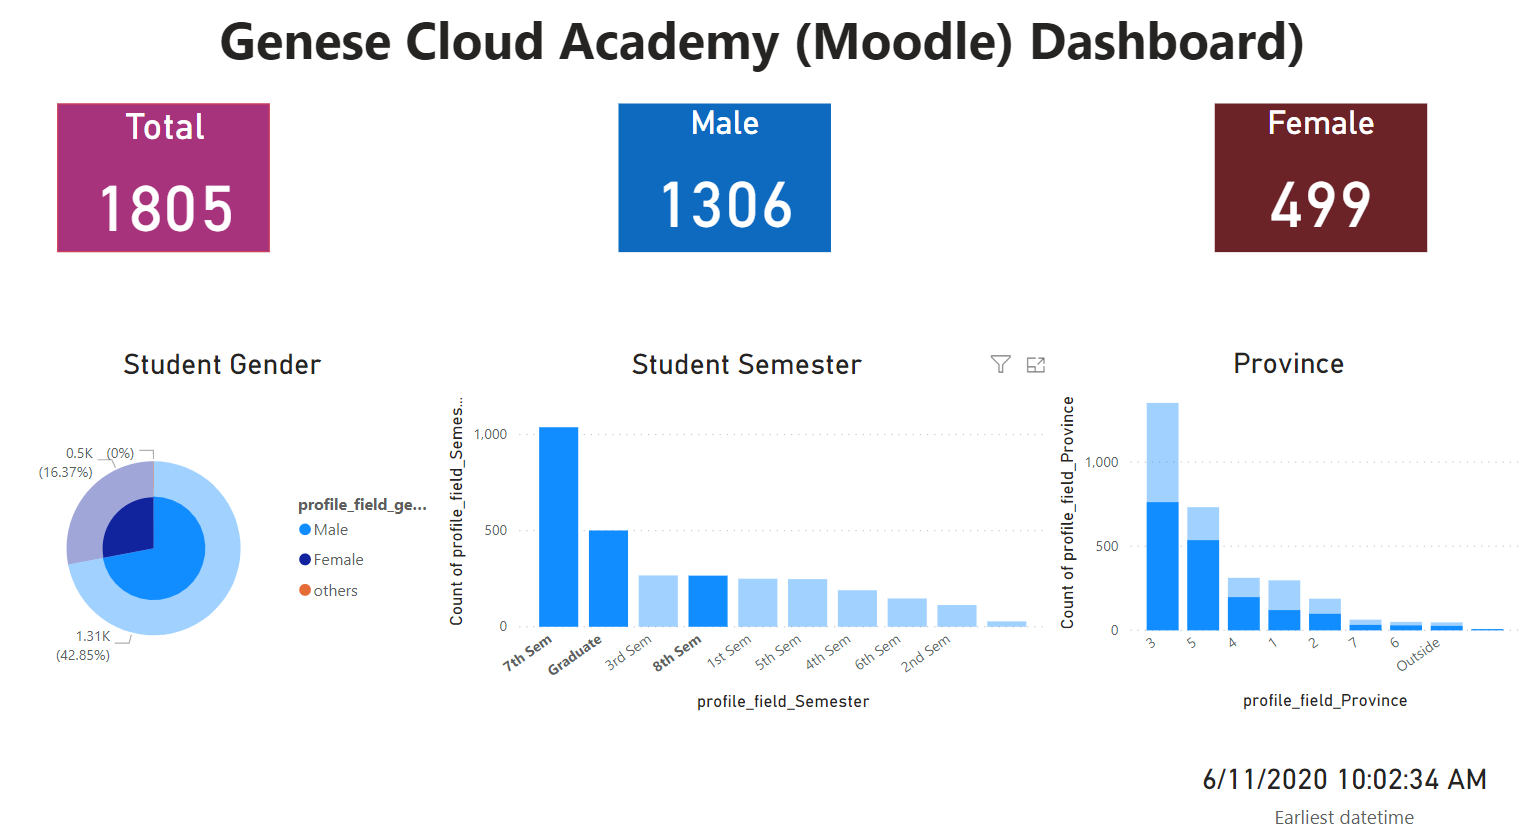

What the dashboard file says about the page in this screenshot:
{"tool":"powerbi","page":{"name":"Dashboard","canvas":[1280,720],"ordinal":0},"visuals":[{"type":"pieChart","title":"Student Gender","fields":{"Category":["user_latest.profile_field_gender1"],"Series":["user_latest.profile_field_gender1"],"Y":["CountNonNull(user_latest.profile_field_gender)"]},"box":[2.1,303.2,367.2,310.5],"z":0},{"type":"columnChart","title":"Student Semester","fields":{"Category":["user_latest.profile_field_Semester1"],"Y":["CountNonNull(user_latest.profile_field_Semester)1"]},"box":[369.4,303.2,513.4,310.5],"z":1000},{"type":"columnChart","title":"Province","fields":{"Category":["user_latest.profile_field_Province1"],"Y":["CountNonNull(user_latest.profile_field_Province)1"]},"box":[882.3,302.7,397.4,310.5],"z":2000},{"type":"card","title":"Total","fields":{"Values":["CountNonNull(user_latest.id)"]},"box":[47.1,98.8,178.8,124.4],"z":3000},{"type":"card","title":"Male","fields":{"Values":["CountNonNull(user_latest.profile_field_gender)"]},"box":[518.2,98.8,178.8,124.4],"z":4000},{"type":"card","title":"Female","fields":{"Values":["CountNonNull(user_latest.profile_field_gender)"]},"box":[1019.5,98.8,178.8,124.4],"z":5000},{"type":"textbox","box":[0,10.9,1279.3,72.5],"z":6000},{"type":"card","fields":{"Values":["Min(Kathmandu.datetime)"]},"box":[994.2,641.5,268.2,68.9],"z":7000}]}

Visuals, with their boxes in screenshot pixels (x1, y1, x2, y2), scaled from the page's 1280x720 canvas onto the 1527x835 screenshot:
"Student Gender" pieChart: locate(3, 352, 441, 712)
"Student Semester" columnChart: locate(441, 352, 1053, 712)
"Province" columnChart: locate(1053, 351, 1526, 711)
"Total" card: locate(56, 115, 269, 259)
"Male" card: locate(618, 115, 831, 259)
"Female" card: locate(1216, 115, 1430, 259)
textbox: locate(0, 13, 1526, 97)
card - Min(Kathmandu.datetime): locate(1186, 744, 1506, 824)
